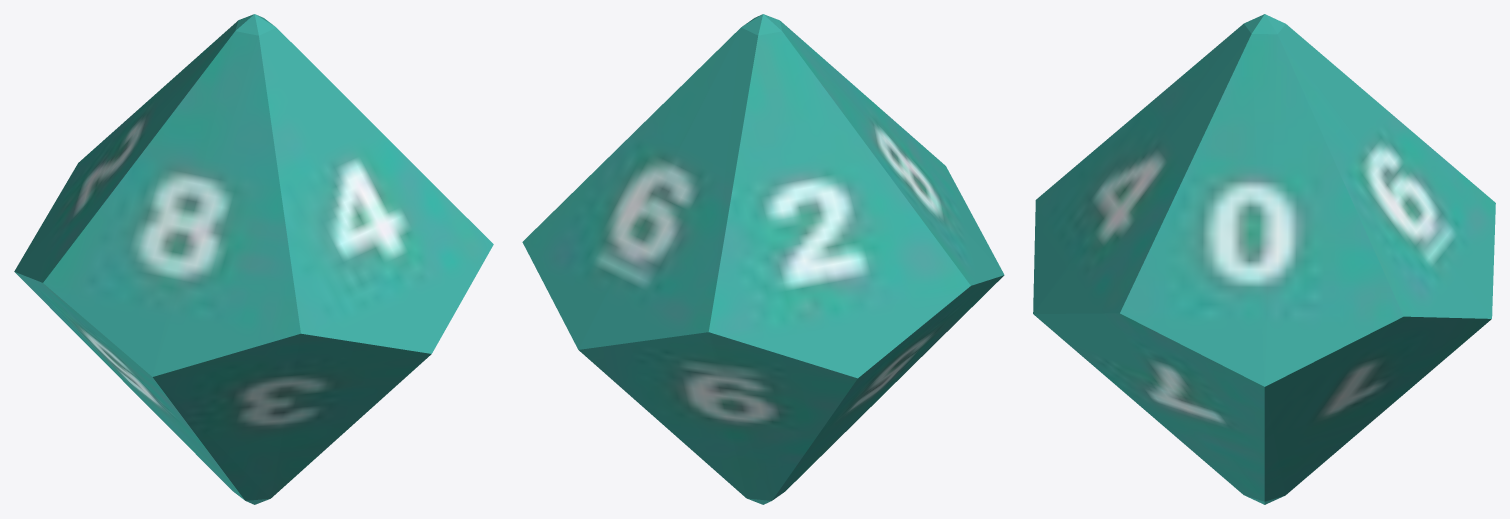
File: trapezohedron.glb
3 renders of one model, left to right at view 1: azimuth 30°, elevation 25°; view 2: azimuth 150°, elevation 25°; view 3: azimuth 270°, elevation 25°, orthographic.
Visible parts, largest first — view 1: trapezohedron.obj; view 2: trapezohedron.obj; view 3: trapezohedron.obj.
Part boxes in pixels (x1,y1,x2,y2): trapezohedron.obj: [14, 14, 493, 504]; trapezohedron.obj: [522, 14, 1004, 504]; trapezohedron.obj: [1033, 14, 1495, 504].
Size of the model in its own units: 0.896 by 1 by 0.8542.
1 material, 1 textured.
